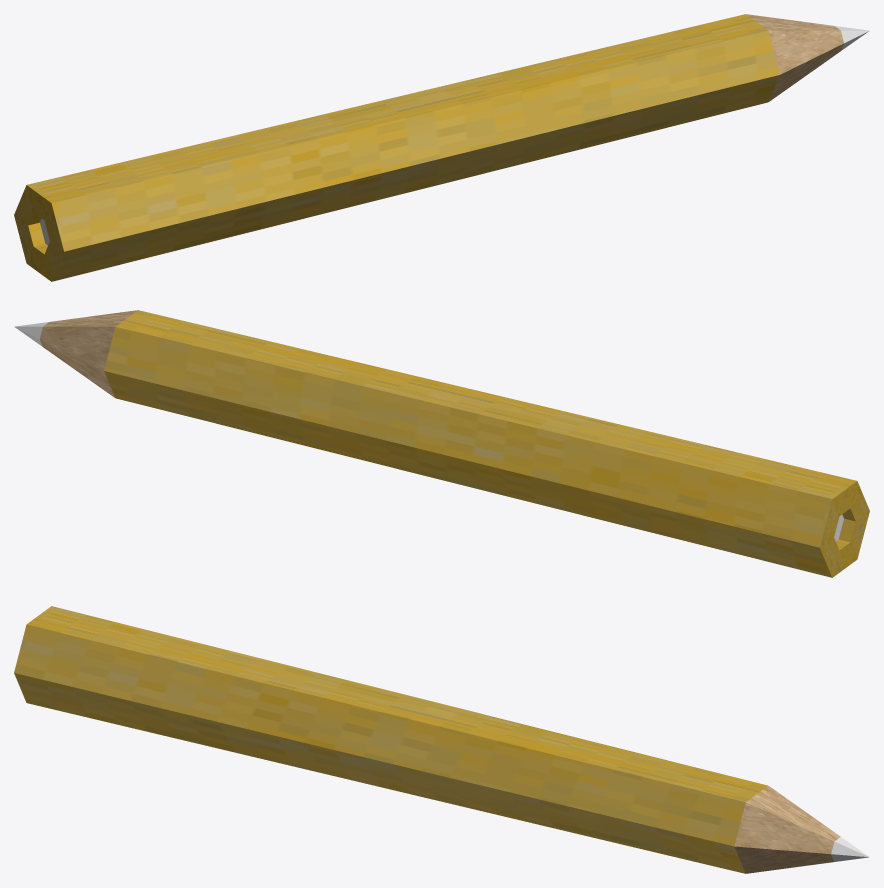
File: Matita_6_Giallo.fbx
3 views of the same model, one above another, from view 1: azimuth 30°, elevation 25°; view 2: azimuth 150°, elevation 25°; view 3: azimuth 330°, elevation 25° (orthographic).
Visible parts, largest first — view 1: Cylinder.002; view 2: Cylinder.002; view 3: Cylinder.002.
Part boxes in pixels (x1=…): Cylinder.002: x1=14, y1=14, x2=869, y2=281; Cylinder.002: x1=14, y1=310, x2=869, y2=577; Cylinder.002: x1=14, y1=606, x2=869, y2=873.
Size of the model in its own units: 0.0355 by 0.00321 by 0.00371.
3 materials, 2 textured.
